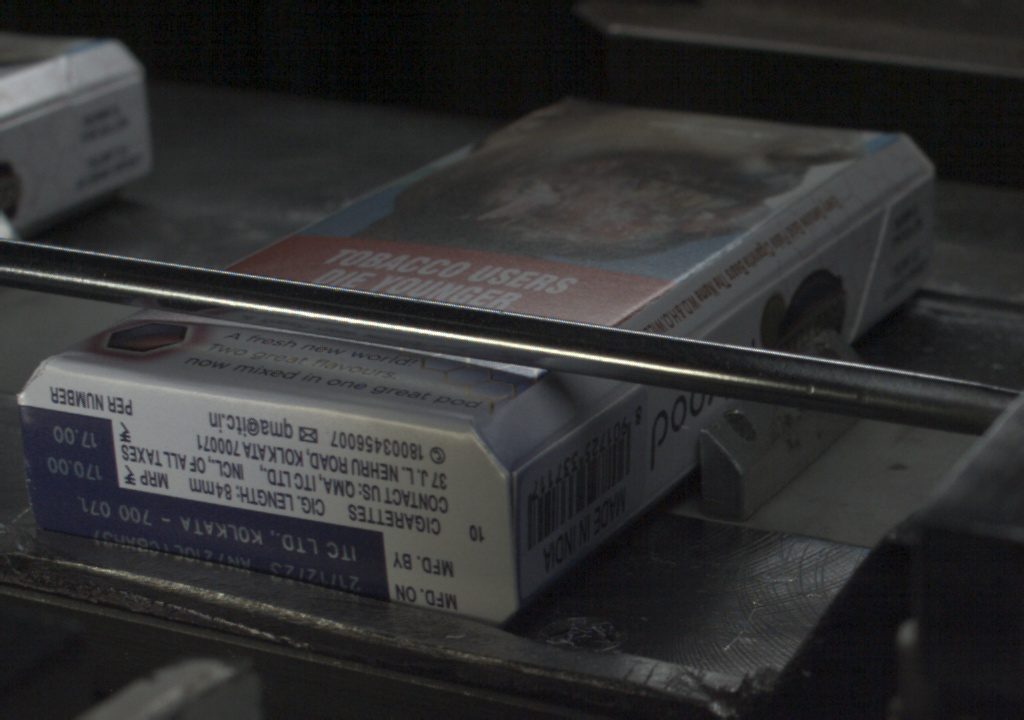g_bottom: (16, 361, 519, 624)
g_label: (33, 485, 388, 598)
g_lmiter: (696, 265, 793, 338), (796, 207, 882, 268), (559, 387, 640, 443), (509, 430, 574, 482)
g_miter: (881, 163, 940, 206)
price: (26, 415, 116, 483)
